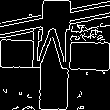M_S: (31, 29, 79, 81)
